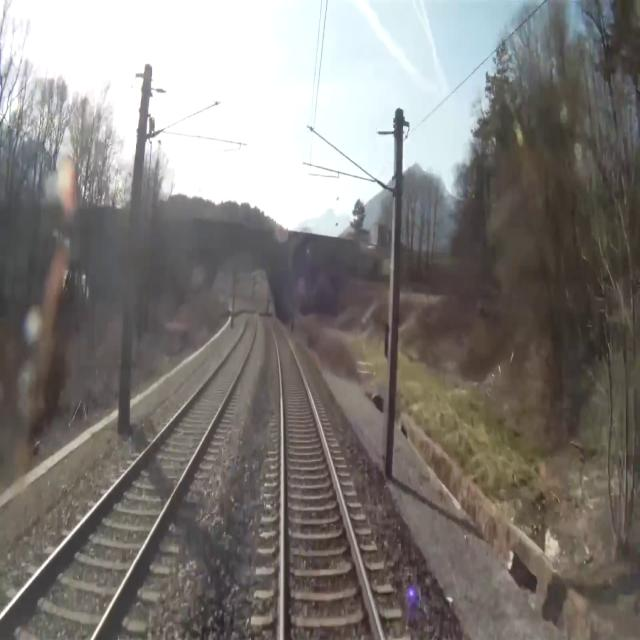rail-track: (0, 313, 254, 639), (268, 312, 380, 639)
